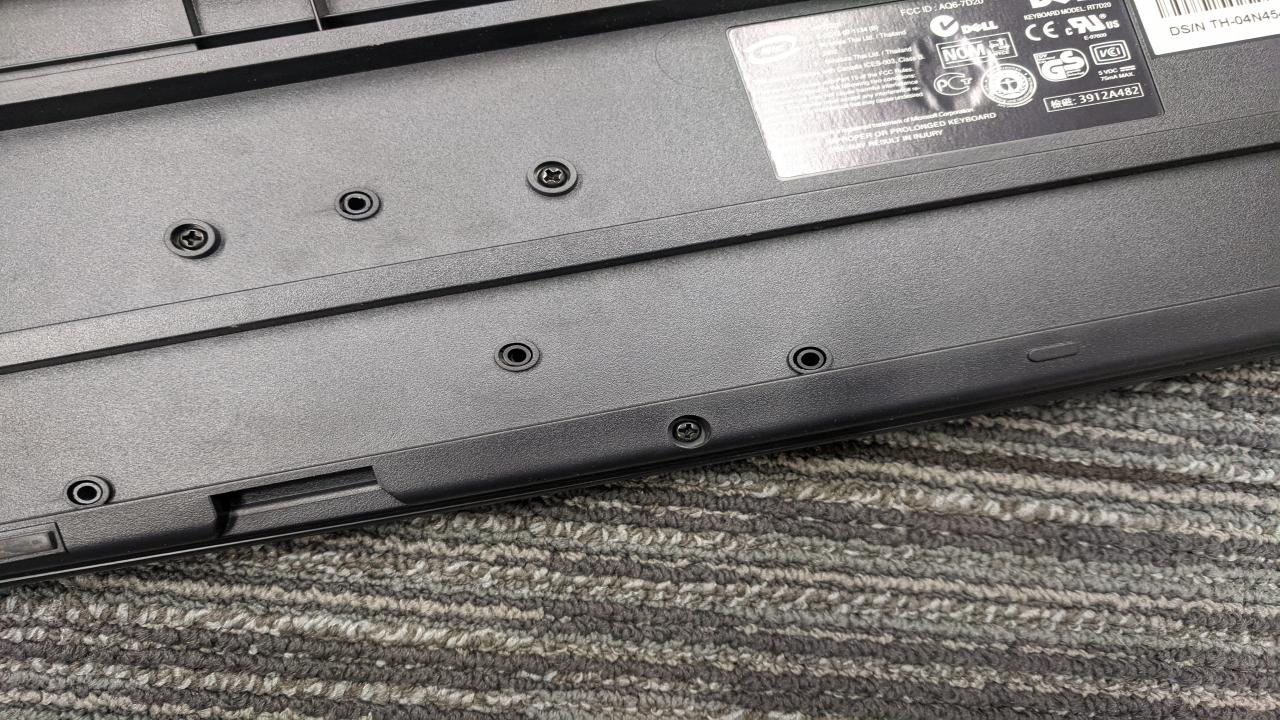CRS: (175, 228, 212, 251), (674, 419, 705, 444), (538, 165, 565, 191)
